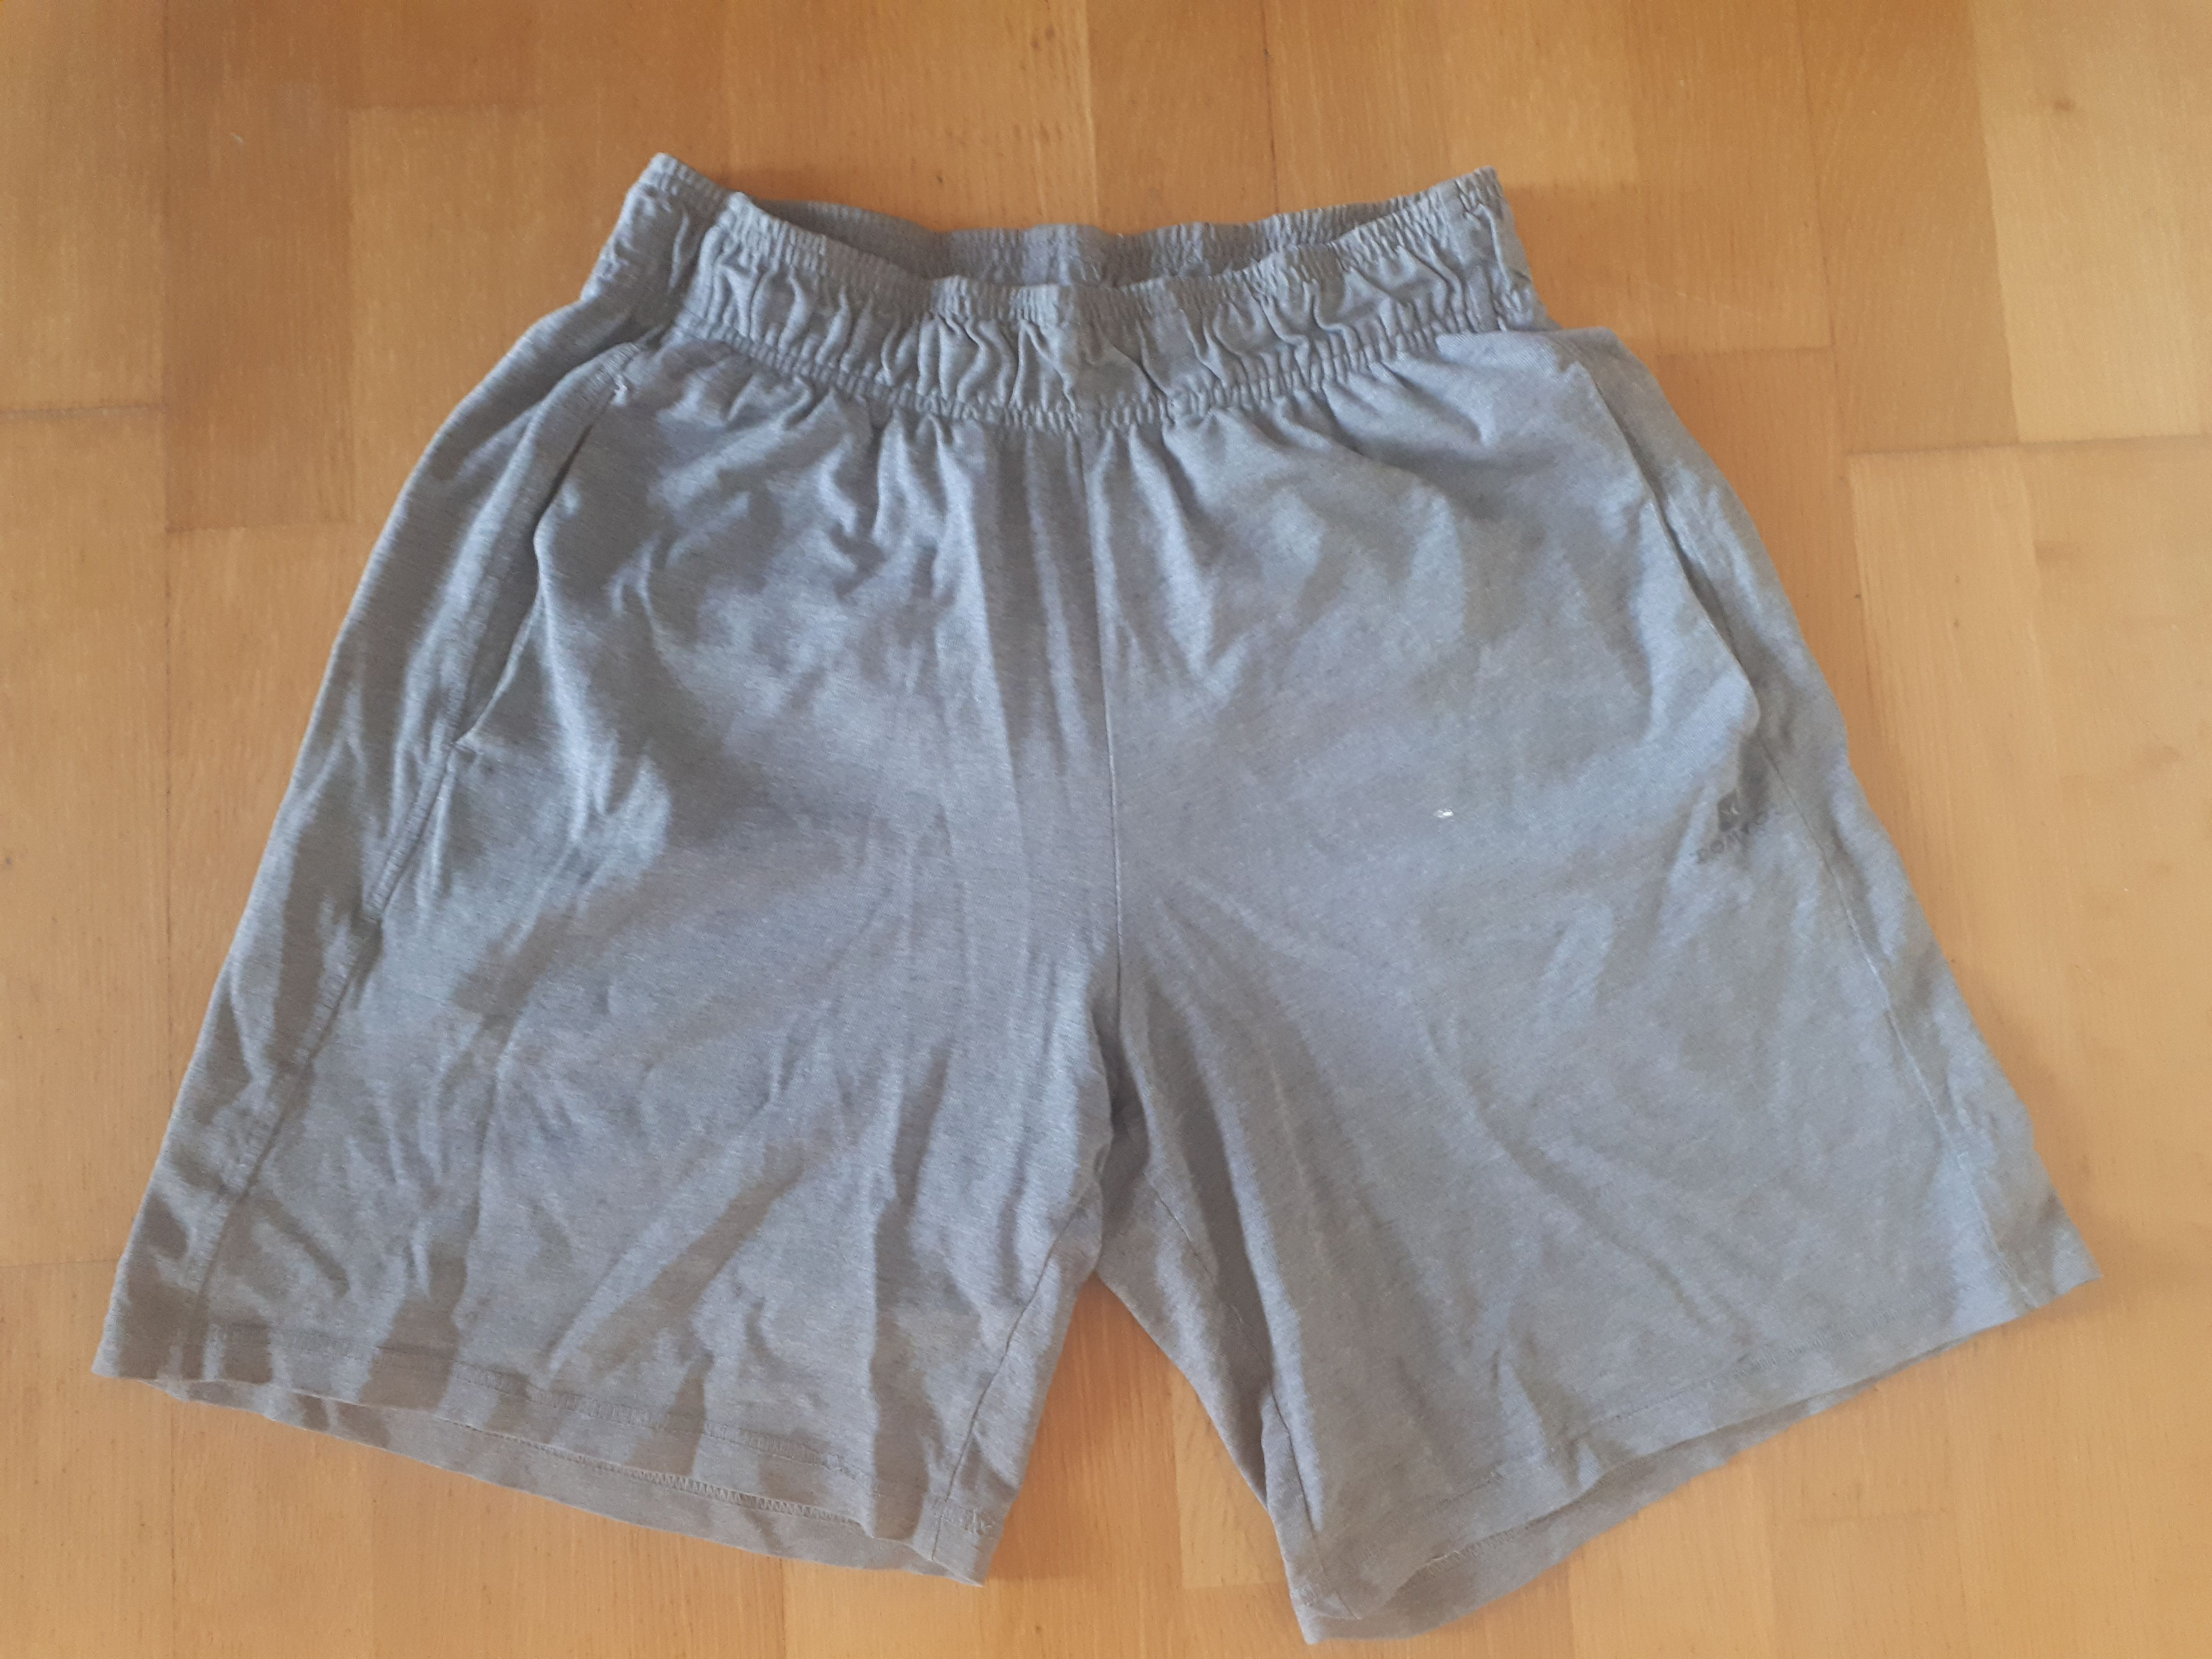clothes: (85, 136, 2067, 1642)
